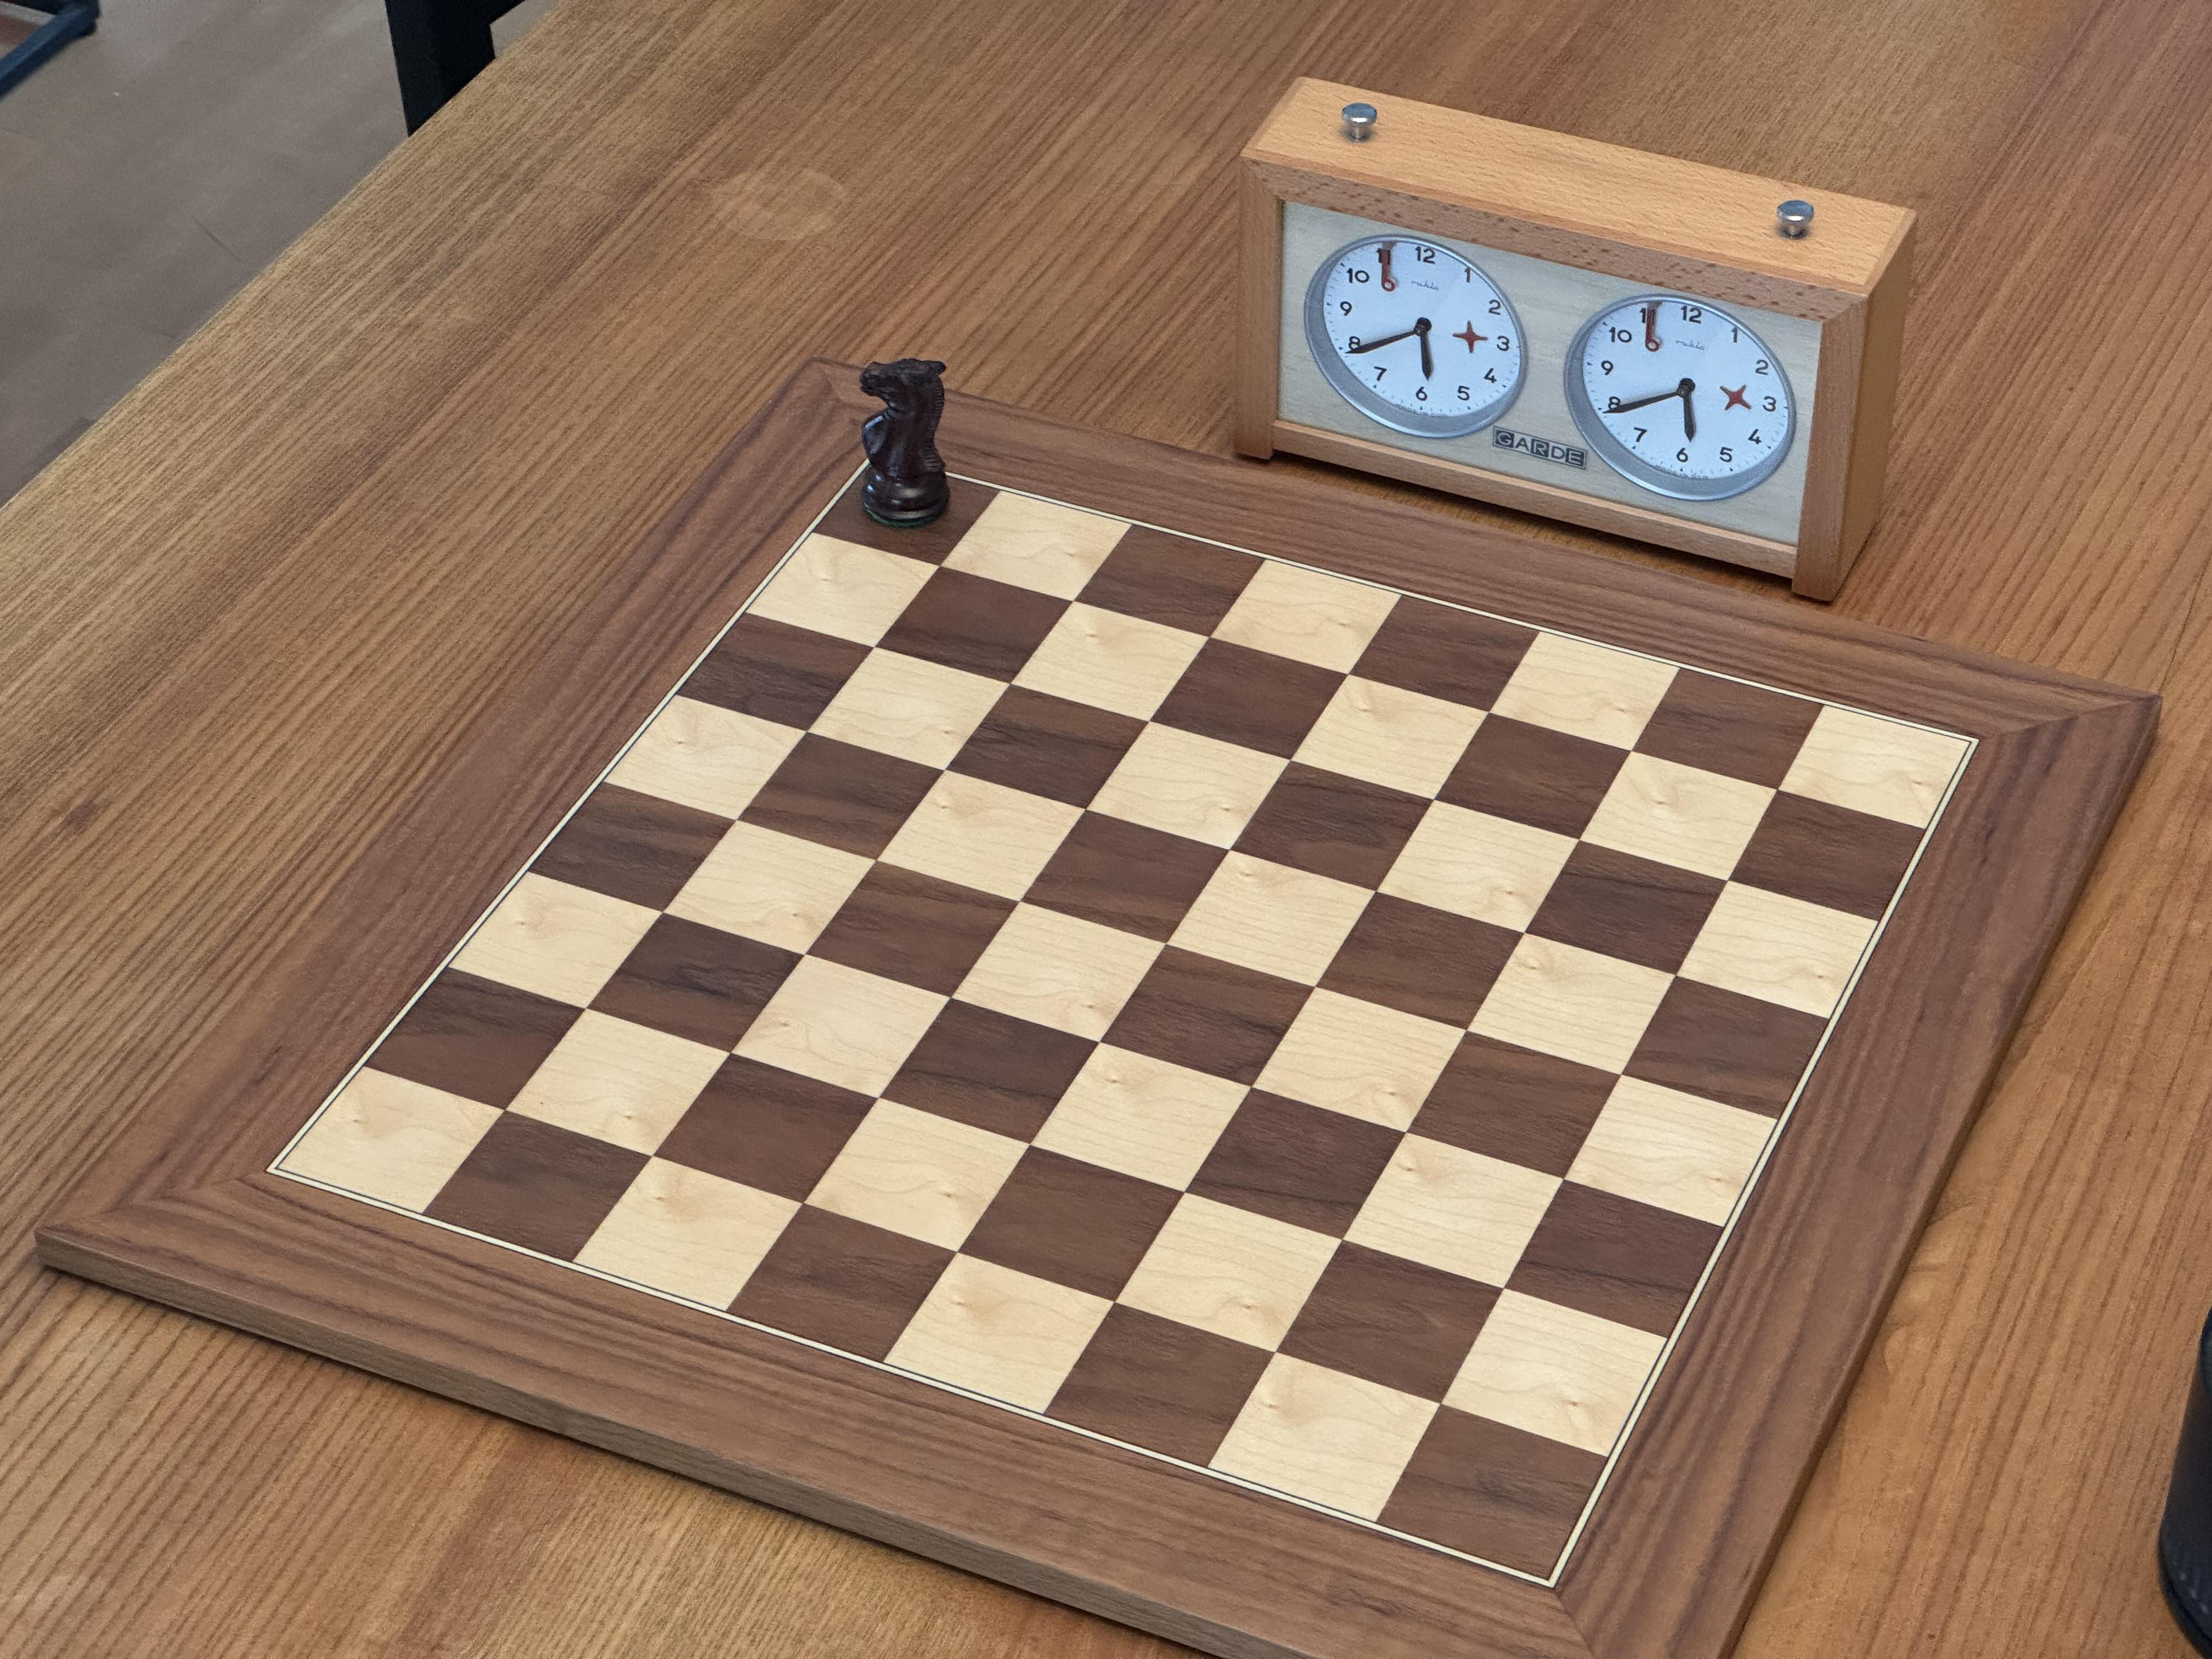Black Knight: (851, 351, 958, 533)
